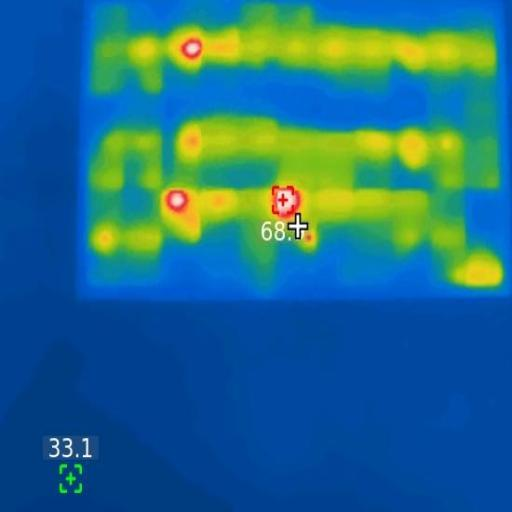hotspot: (275, 187, 299, 218), (167, 187, 190, 214), (183, 37, 203, 62)
